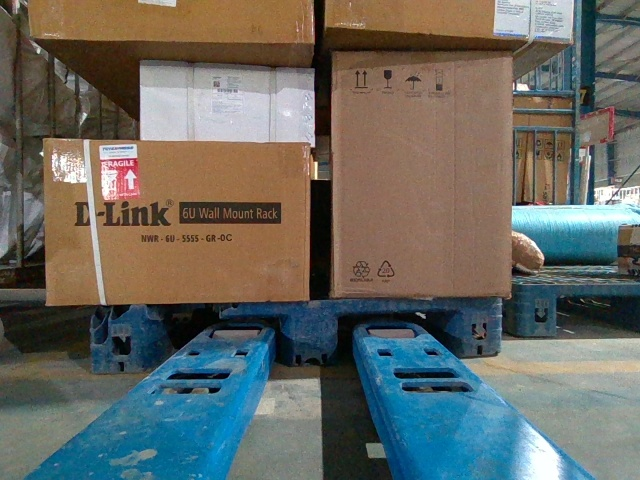block: (87, 307, 160, 377), (291, 300, 340, 364), (460, 297, 505, 358), (520, 285, 558, 338)
front: (92, 298, 499, 374)
hole pallet: (156, 316, 291, 373), (340, 310, 464, 362), (554, 295, 639, 337)
